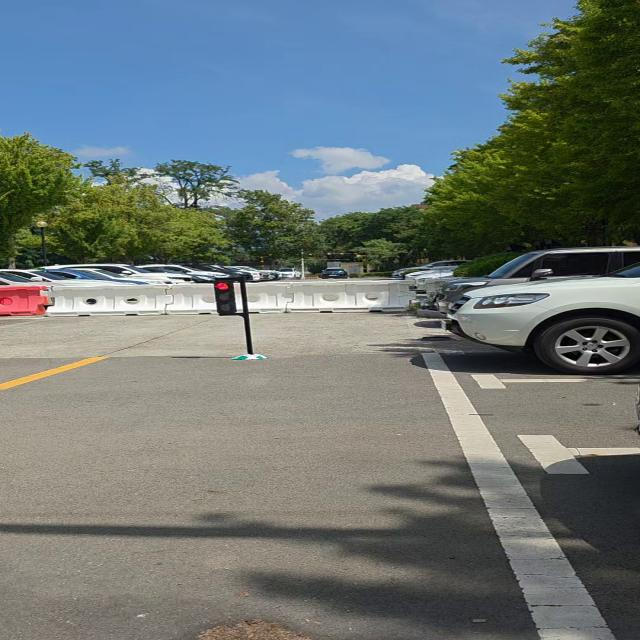red: (210, 280, 246, 314)
